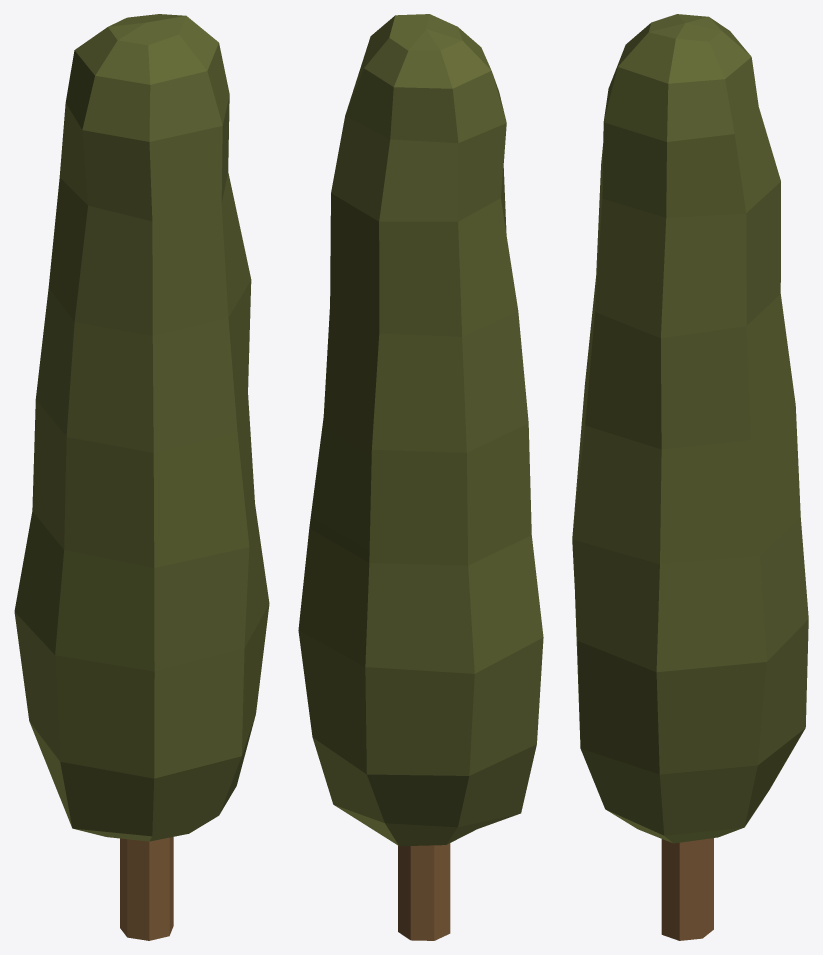
The model's file is delh_foli_02.fbx.
3 views of the same model, side by side, from view 1: azimuth 30°, elevation 25°; view 2: azimuth 150°, elevation 25°; view 3: azimuth 270°, elevation 25° (orthographic).
Visible parts, largest first — view 1: delh_foli_02; view 2: delh_foli_02; view 3: delh_foli_02.
Part boxes in pixels (bbox=[...]): delh_foli_02: bbox=[14, 14, 269, 940]; delh_foli_02: bbox=[298, 14, 543, 940]; delh_foli_02: bbox=[572, 14, 808, 940].
Bounding box in the file's own units: 71.82 × 292 × 69.
